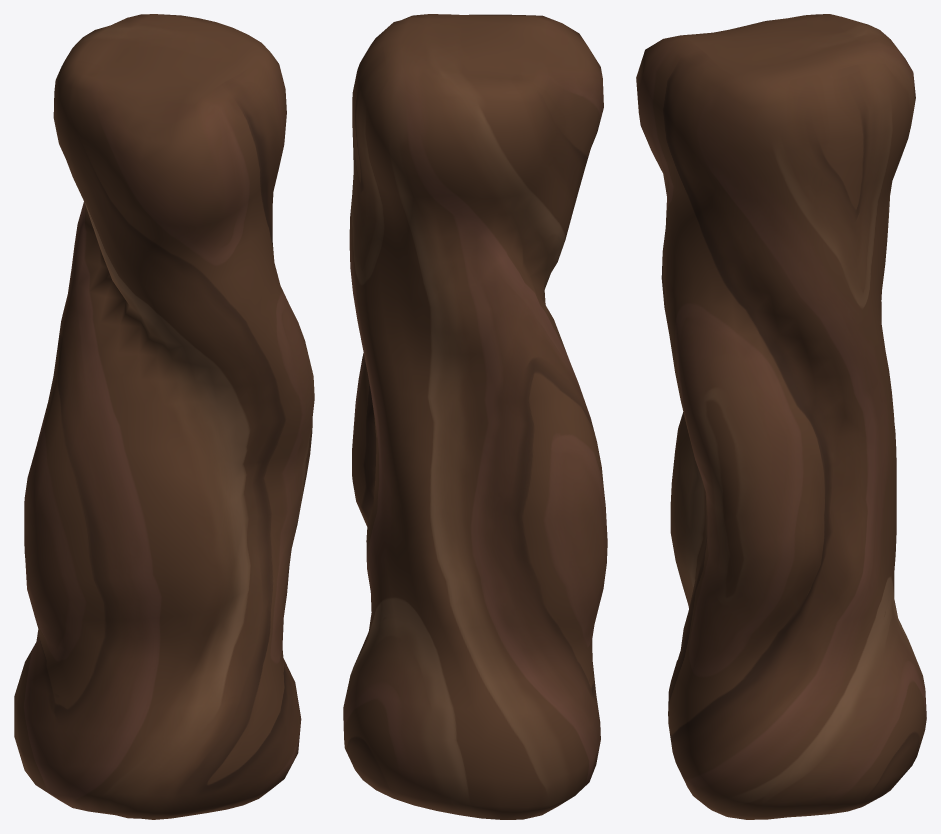
The model's file is IntersectionPillar.fbx.
3 views of the same model, side by side, from view 1: azimuth 30°, elevation 25°; view 2: azimuth 150°, elevation 25°; view 3: azimuth 270°, elevation 25° (orthographic).
Parts seen in each view (by area): view 1: IntersectionPillar; view 2: IntersectionPillar; view 3: IntersectionPillar.
Part boxes in pixels (bbox=[...]): IntersectionPillar: bbox=[14, 14, 314, 819]; IntersectionPillar: bbox=[343, 14, 607, 819]; IntersectionPillar: bbox=[636, 14, 926, 819].
Bounding box in the file's own units: 218 × 614 × 215.
1 material, 1 textured.
